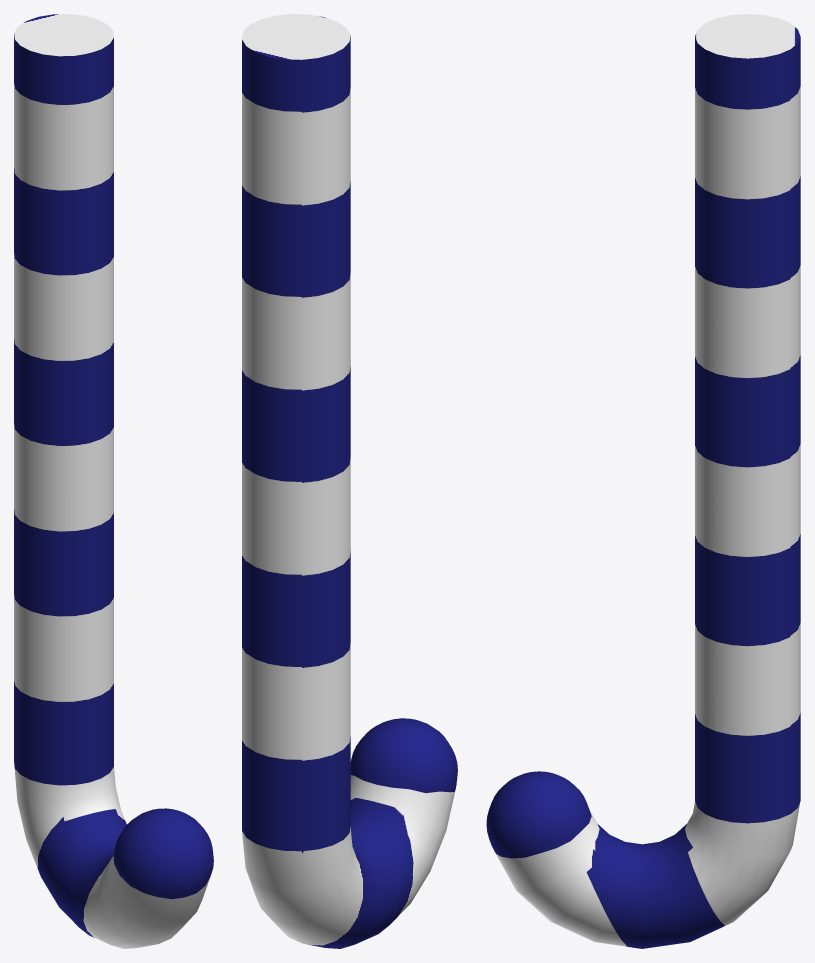
The model's file is bluestick.fbx.
The picture shows the model from 3 angles, left to right: view 1: azimuth 30°, elevation 25°; view 2: azimuth 150°, elevation 25°; view 3: azimuth 270°, elevation 25°; orthographic projection. The views are drawn at different scales.
Visible parts, largest first — view 1: pSphere3; view 2: pSphere3; view 3: pSphere3.
Part boxes in pixels (box(x1,y1,x2,y2)): pSphere3: box(14, 14, 213, 948); pSphere3: box(242, 14, 457, 948); pSphere3: box(486, 14, 800, 948).
Bounding box in the file's own units: 2.01 × 19 × 5.95.
1 material, 1 textured.
